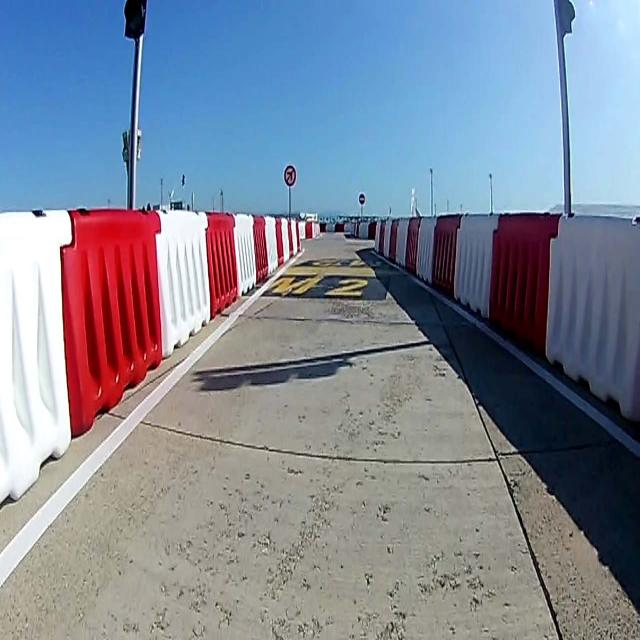soladonulmez: (284, 165, 296, 187)
